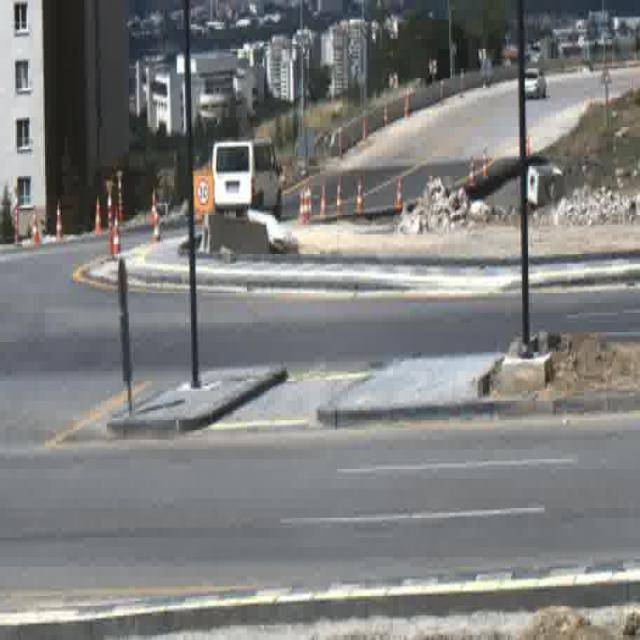Car: (213, 142, 283, 222), (524, 67, 546, 98)
